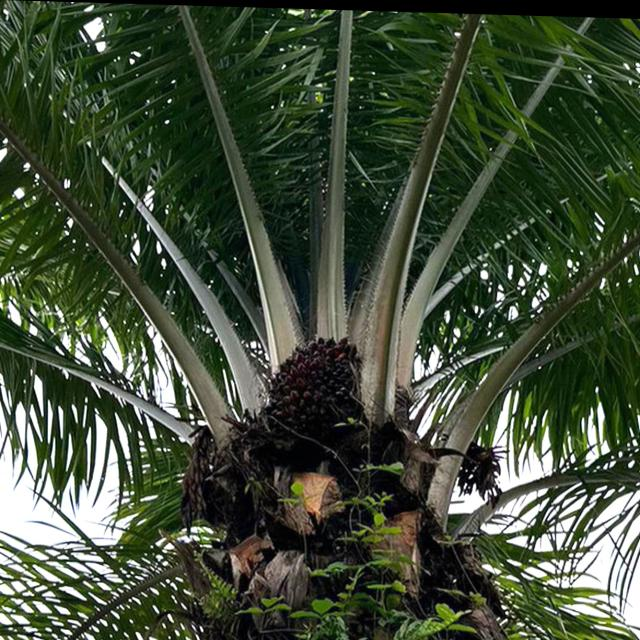ripe: (263, 315, 376, 446)
